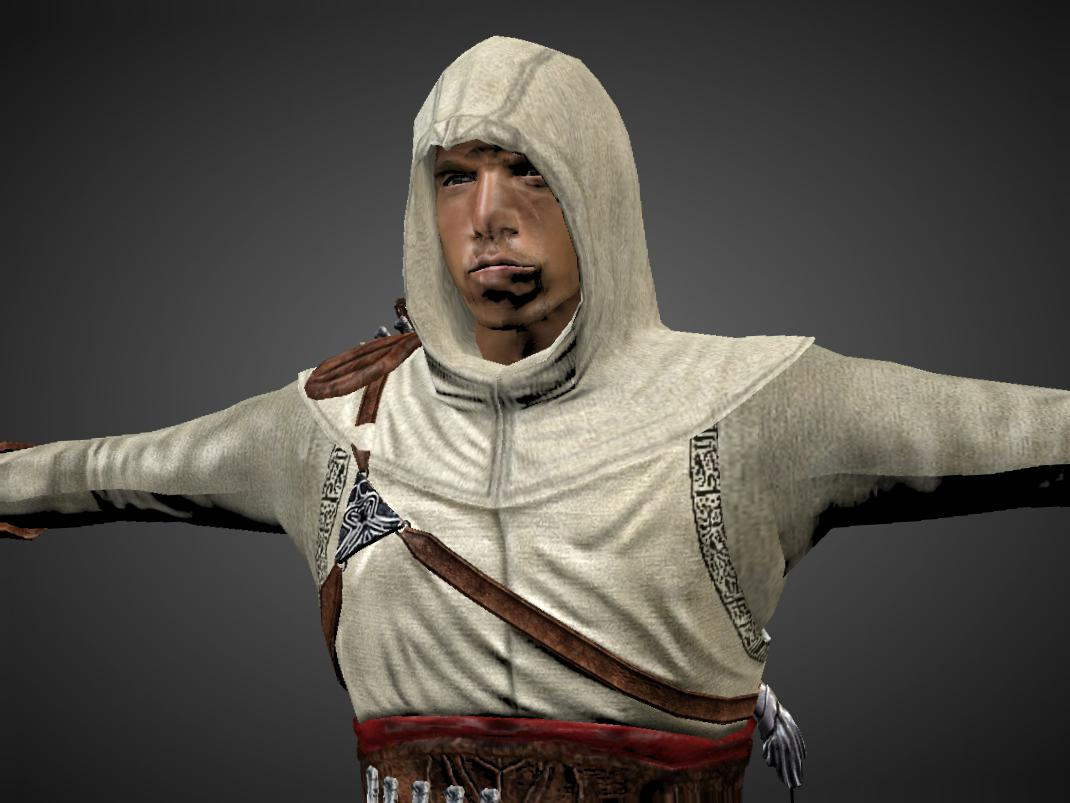clip: (349, 415, 392, 459)
